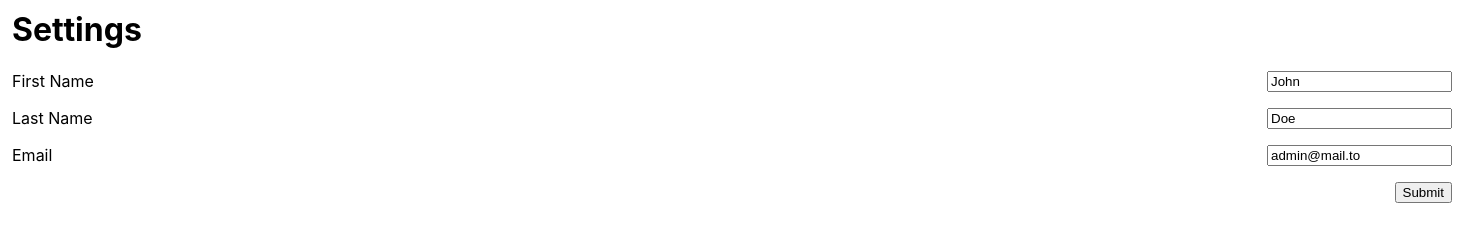
Scenario: adds email error
Replace the text in the field labelled "Email" with "123" at point(1360, 155), box [1267,145,1452,166]
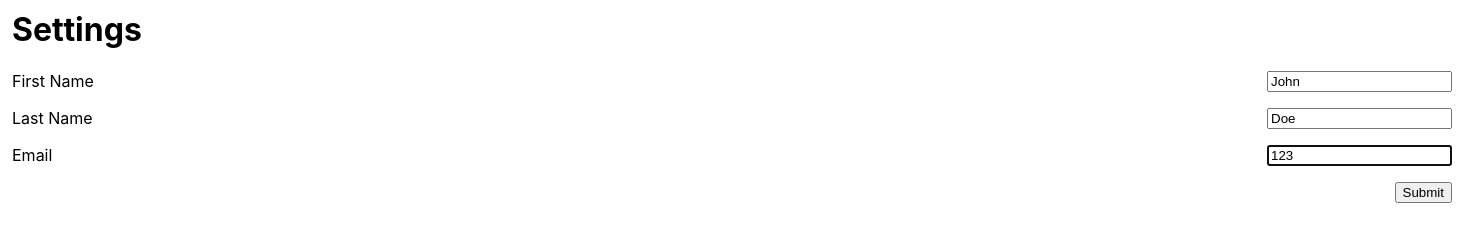
Click the button "Submit" at point(1423, 192), box [1394,182,1452,203]
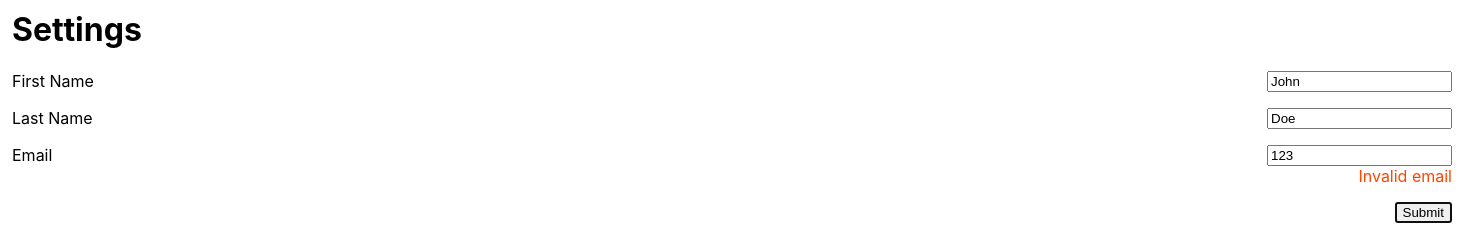
Check: the text with class "errorMessage" reads "Invalid email", box [1358,166,1452,186]
